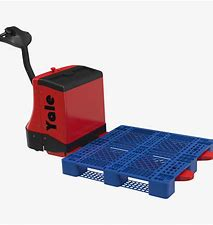Pallet Jack: (1, 26, 213, 200)
